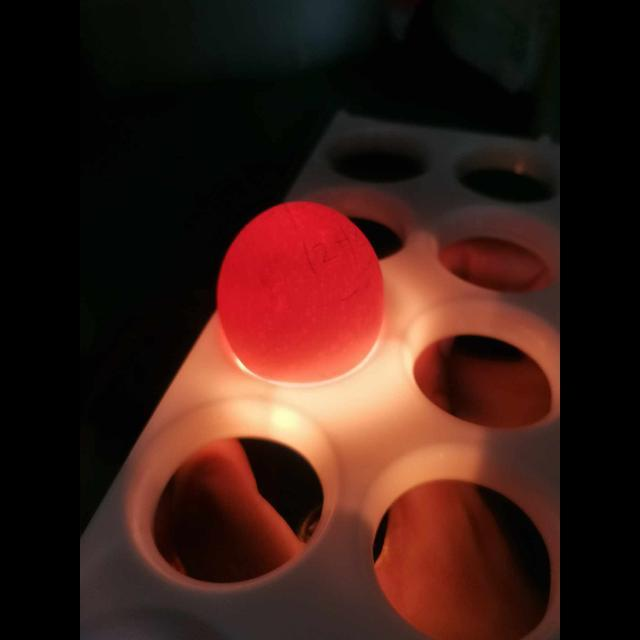Infertile: (212, 192, 388, 382)
